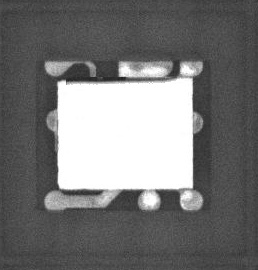DIE_BROKEN: (65, 75, 177, 85)
